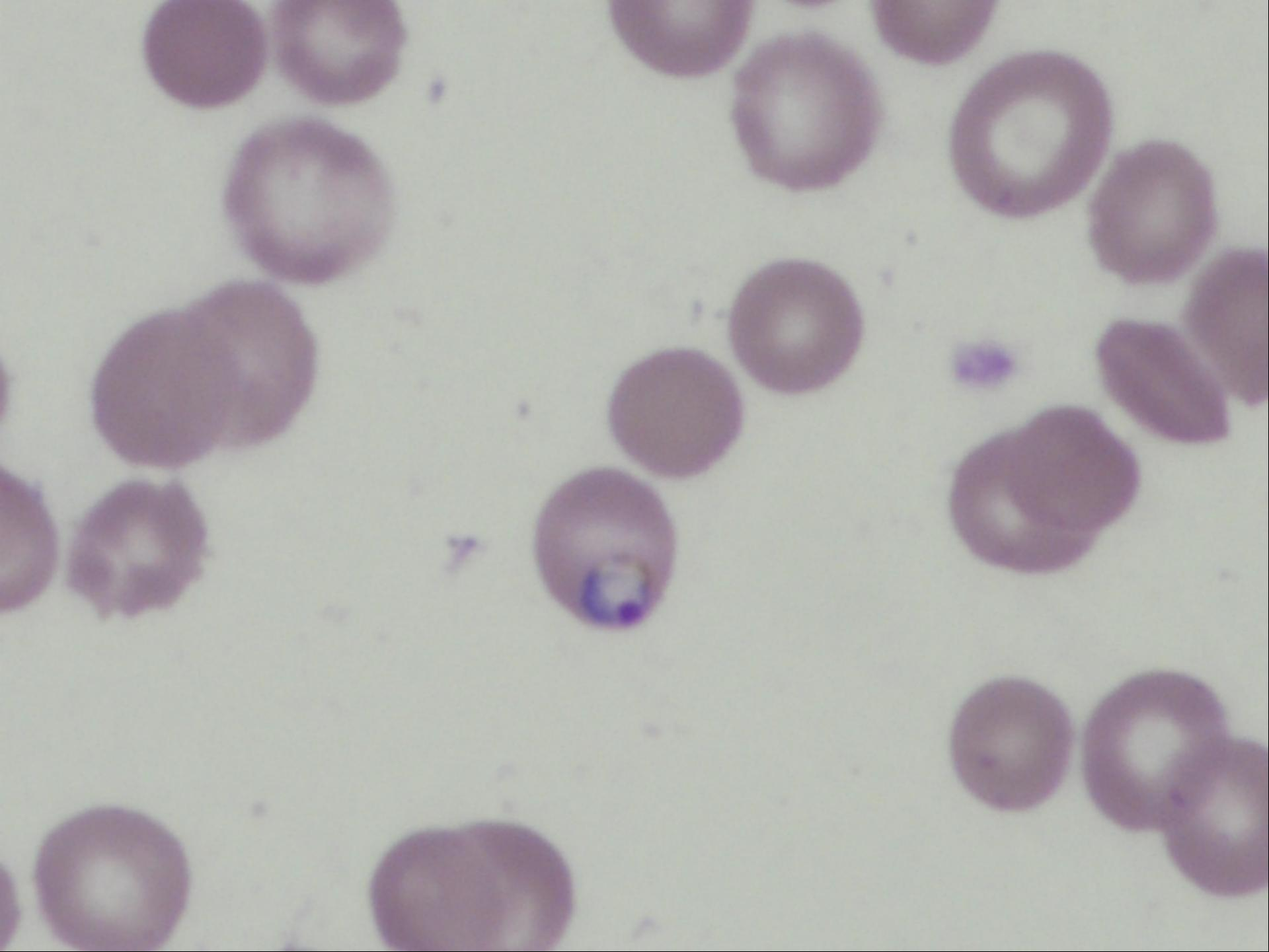Infected: (533, 468, 675, 628)
Uninfected: (94, 283, 309, 470), (950, 409, 1130, 569), (948, 52, 1112, 215), (226, 120, 388, 279), (374, 824, 568, 951), (731, 35, 878, 187), (32, 807, 188, 950), (1085, 674, 1223, 826), (70, 482, 204, 620), (608, 351, 746, 479), (731, 265, 864, 397), (948, 677, 1072, 813), (1091, 144, 1214, 274), (1100, 320, 1229, 440), (1163, 754, 1266, 891), (276, 0, 403, 100), (143, 0, 263, 105), (1189, 250, 1265, 397), (613, 1, 748, 72)
